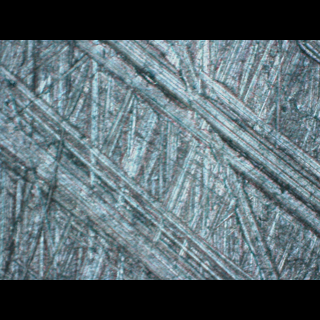d: (0, 64, 257, 280), (71, 40, 320, 235)
